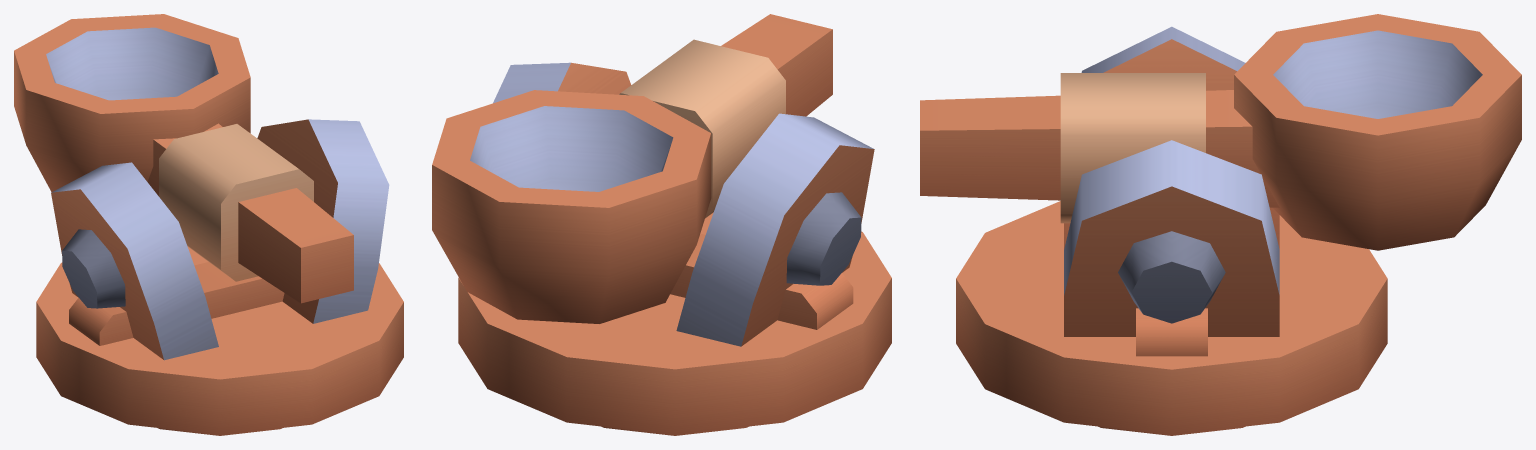
File: cc0-weapon-catapult-lod0.glb
3 renders of one model, left to right at view 1: azimuth 30°, elevation 25°; view 2: azimuth 150°, elevation 25°; view 3: azimuth 270°, elevation 25°, orthographic. The views are drawn at different scales.
Parts seen in each view (by area): view 1: part_0; view 2: part_0; view 3: part_0.
Boxes of the visible parts, box(x1,y1,x2,y2) form: part_0: box(14, 14, 403, 435); part_0: box(432, 14, 891, 435); part_0: box(920, 14, 1521, 435).
Size of the model in its own units: 0.6 by 0.4625 by 0.8366.
Materials: 1 (1 with a texture image).
